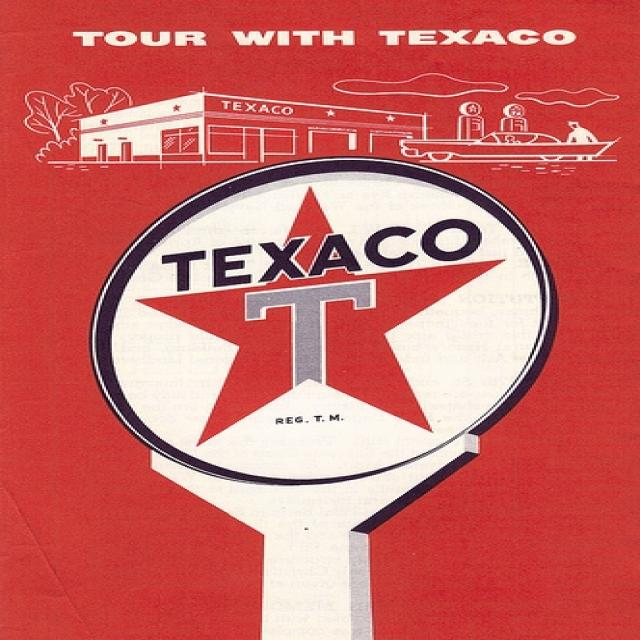texaco: (103, 173, 549, 481)
